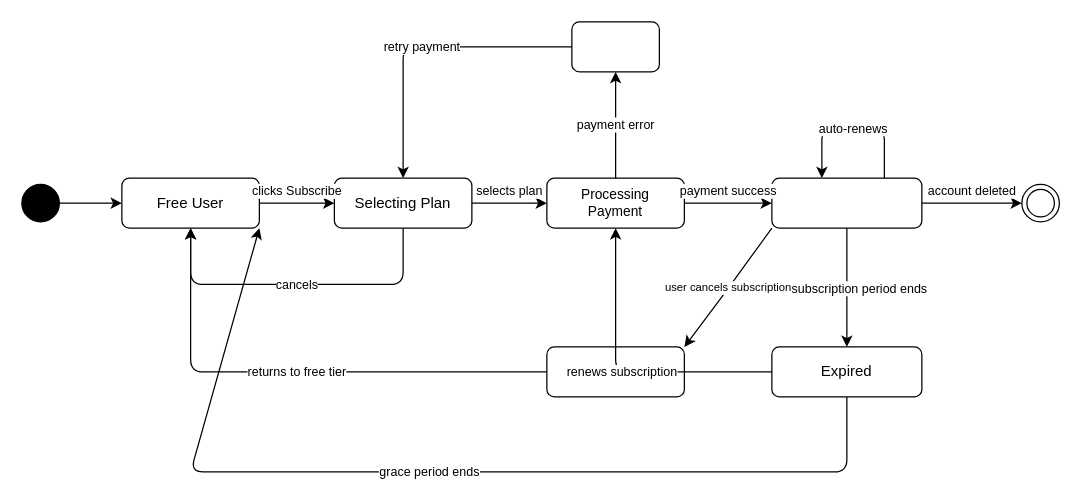
This 1081x504 diagram has some shape labels left out. The centre of each missing label's shape, as x and y in pixels:
Payment Failed: the point at 615,46
Premium Active: the point at 846,202
